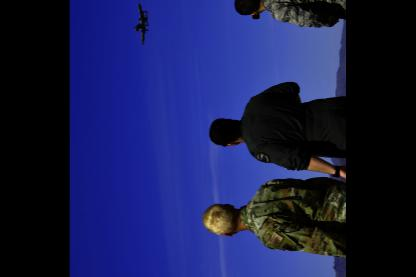A10: (133, 1, 148, 43)
